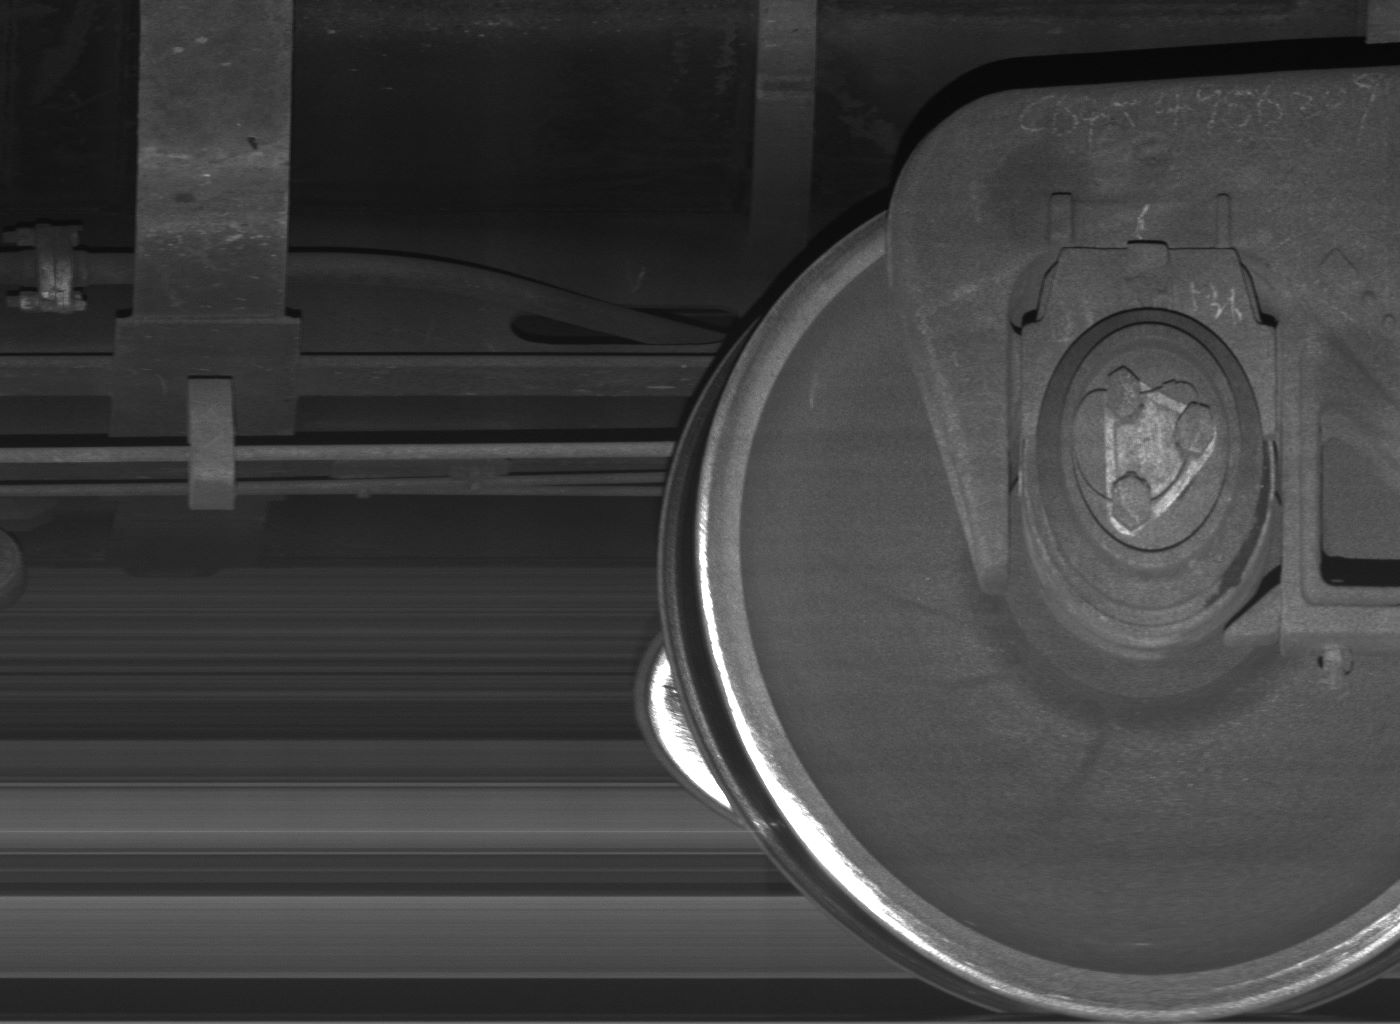normal: (187, 378, 239, 513)
